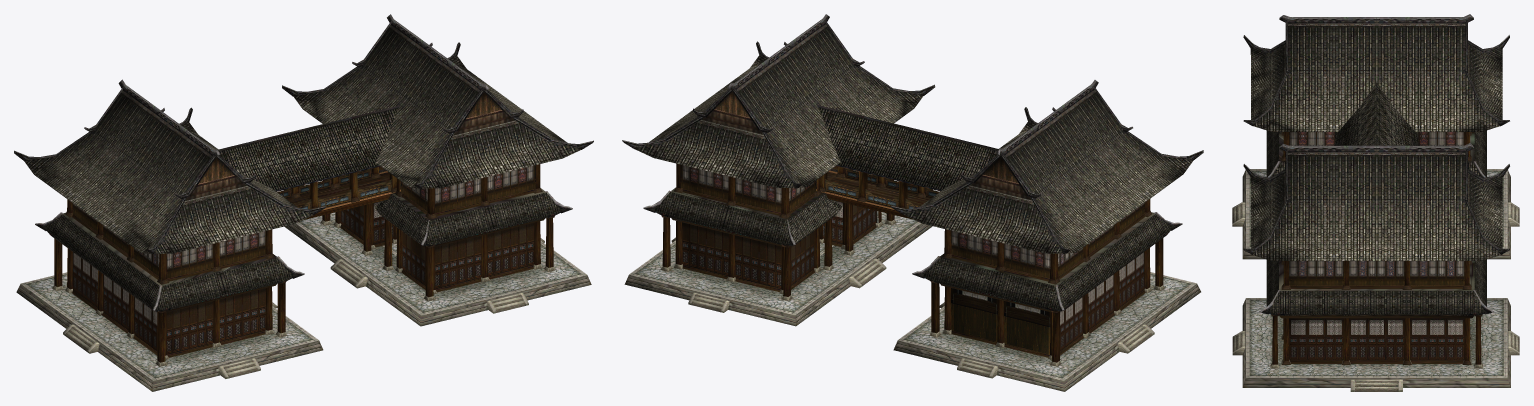
File: b1-009-hotel_lod_01.glb
3 renders of one model, left to right at view 1: azimuth 30°, elevation 25°; view 2: azimuth 150°, elevation 25°; view 3: azimuth 270°, elevation 25°, orthographic.
Visible parts, largest first — view 1: b1-009-hotel01, b1-009-hotel02, b1-009-hotel03; view 2: b1-009-hotel01, b1-009-hotel03, b1-009-hotel02; view 3: b1-009-hotel01, b1-009-hotel02, b1-009-hotel03.
Boxes of the visible parts, x1,y1,x2,y2 form: b1-009-hotel01: [14, 14, 593, 254]; b1-009-hotel02: [35, 105, 572, 354]; b1-009-hotel03: [16, 164, 591, 391]; b1-009-hotel01: [622, 14, 1203, 253]; b1-009-hotel03: [624, 163, 1200, 391]; b1-009-hotel02: [643, 104, 1182, 351]; b1-009-hotel01: [1243, 14, 1509, 260]; b1-009-hotel02: [1259, 82, 1493, 360]; b1-009-hotel03: [1232, 132, 1519, 391].
Bounding box in the file's own units: 35.89 × 15.6 × 19.9.
Materials: 3 (3 with a texture image).
